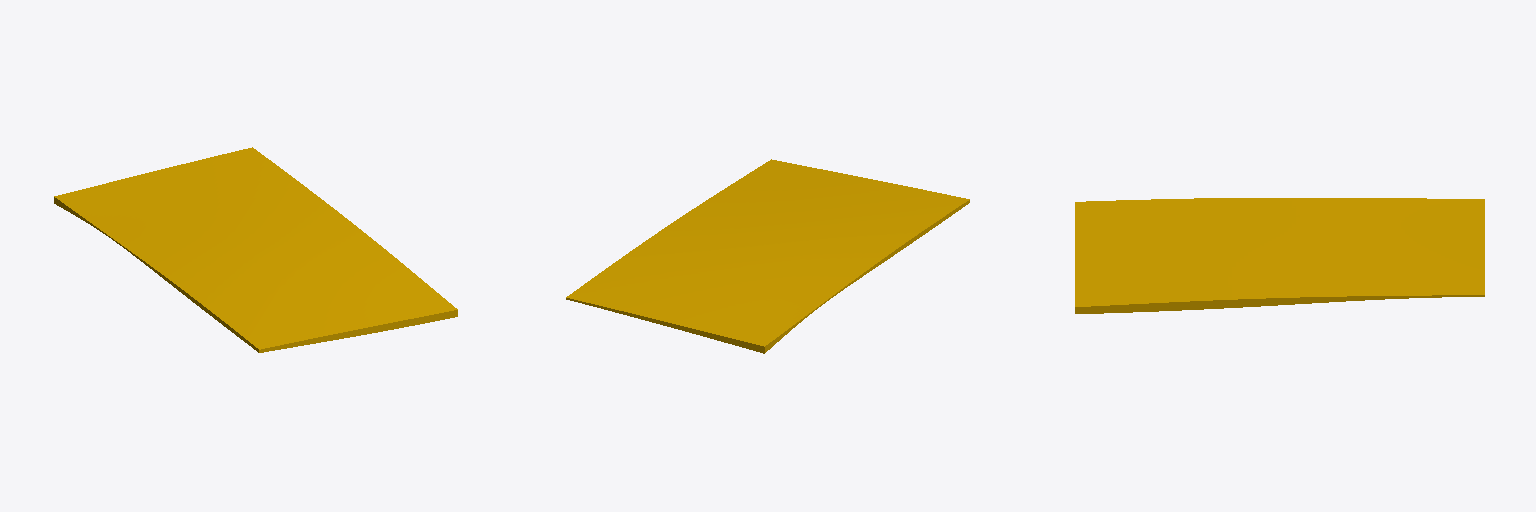
File: gravel.obj
3 renders of one model, left to right at view 1: azimuth 30°, elevation 25°; view 2: azimuth 150°, elevation 25°; view 3: azimuth 270°, elevation 25°, orthographic.
Parts seen in each view (by area): view 1: IfcGeotechnicalStratum/G; view 2: IfcGeotechnicalStratum/G; view 3: IfcGeotechnicalStratum/G.
Part boxes in pixels (left/top/right/bottom): IfcGeotechnicalStratum/G: left=54, top=147, right=457, bottom=352; IfcGeotechnicalStratum/G: left=566, top=159, right=969, bottom=353; IfcGeotechnicalStratum/G: left=1075, top=198, right=1484, bottom=313.
Bounding box in the file's own units: 57 × 5.44 × 102.